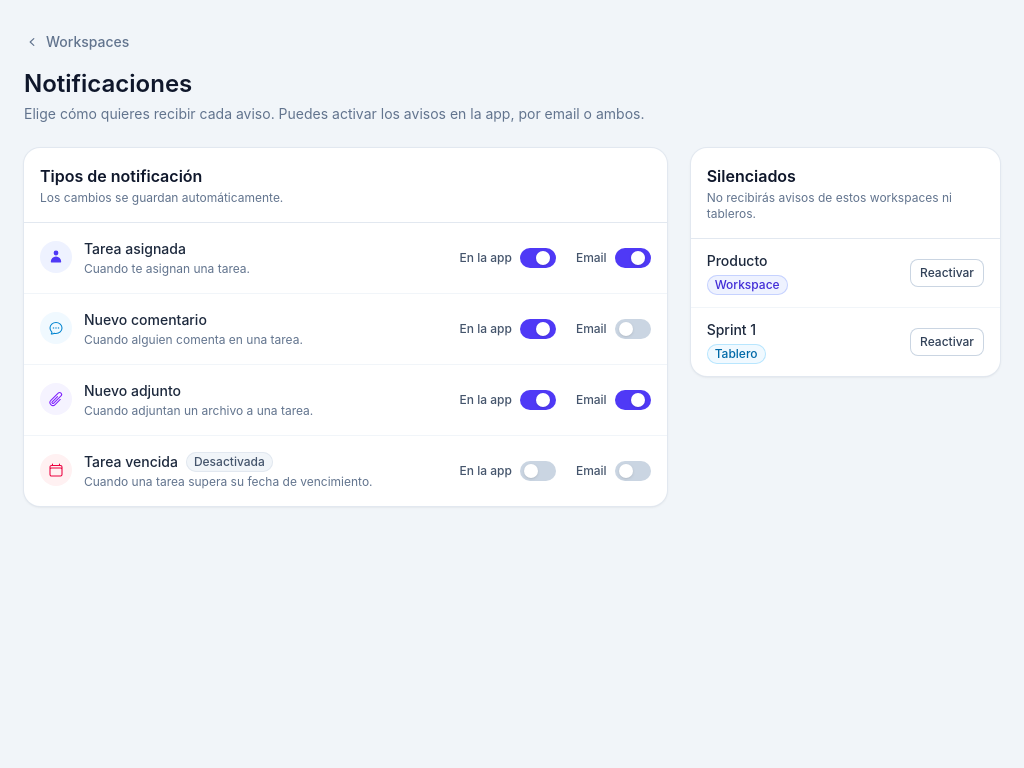
NotificationSettingsPage › rolls back the switch and shows the API error when saving fails
Click the switch named "Tarea asignada por email".
click(633, 258)  # box x1=615 y1=248 x2=651 y2=268
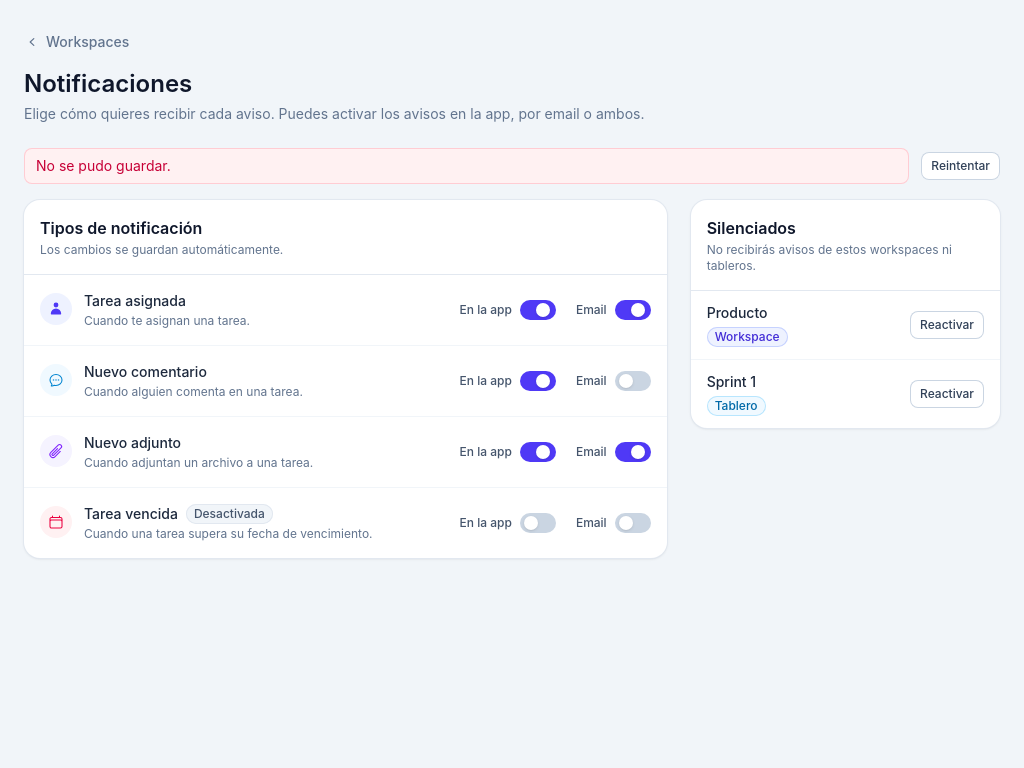
Now the message reads "No se pudo guardar.", box x1=36 y1=157 x2=171 y2=174
